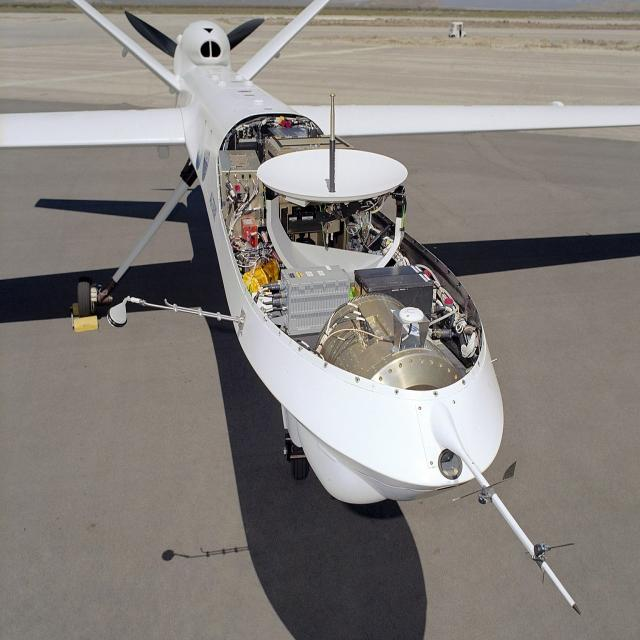MQ9: (17, 17, 640, 620)
